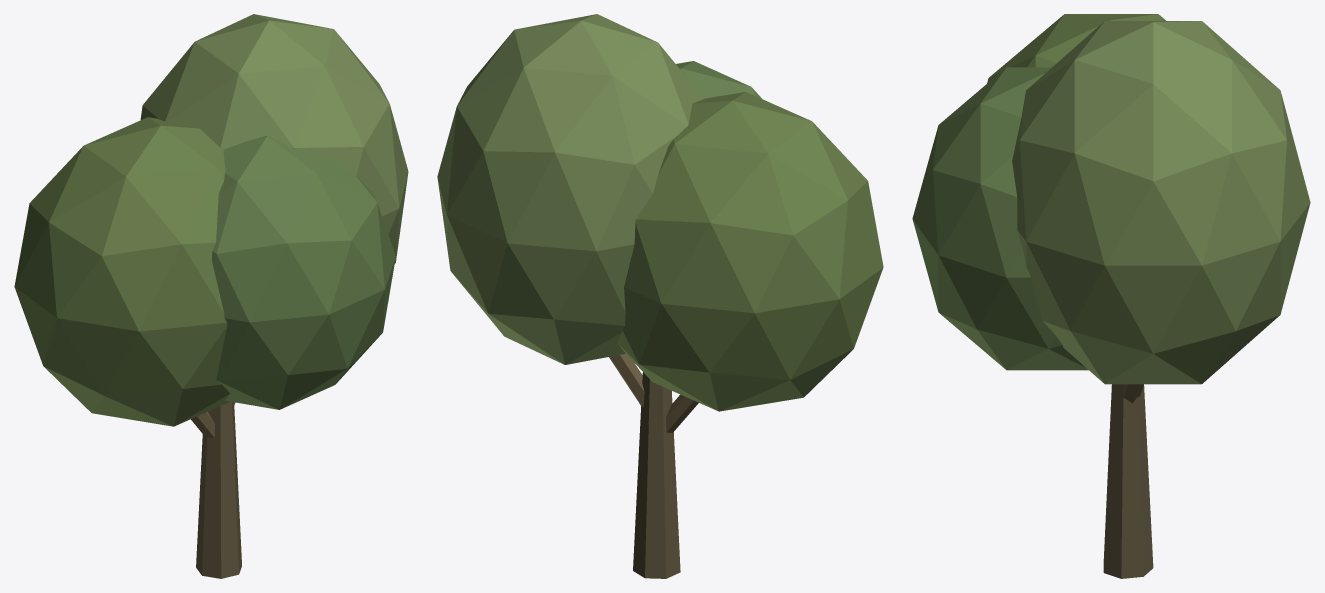
Rendered from oak.glb.
3 renders of one model, left to right at view 1: azimuth 30°, elevation 25°; view 2: azimuth 150°, elevation 25°; view 3: azimuth 270°, elevation 25°, orthographic. The views are drawn at different scales.
Visible parts, largest first — view 1: oak; view 2: oak; view 3: oak.
Boxes of the visible parts, x1=… form: oak: x1=14, y1=14, x2=408, y2=578; oak: x1=437, y1=14, x2=883, y2=578; oak: x1=912, y1=14, x2=1310, y2=578.
Size of the model in its own units: 9 by 12.2 by 7.6.
